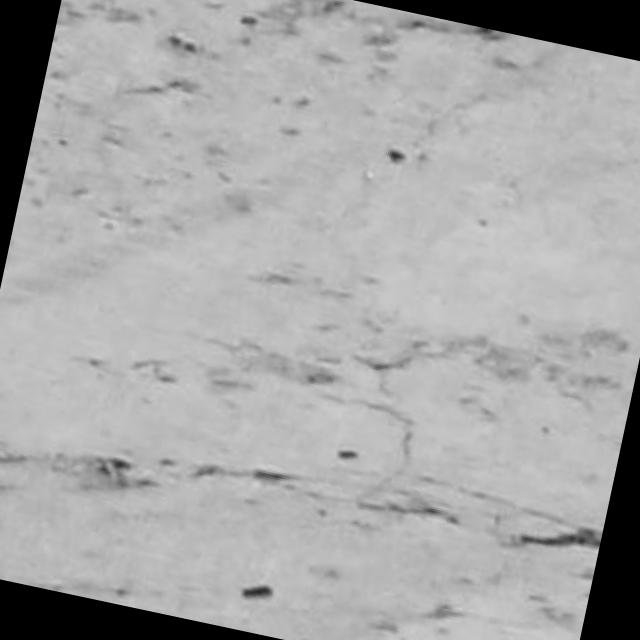crack: (515, 527, 601, 549)
